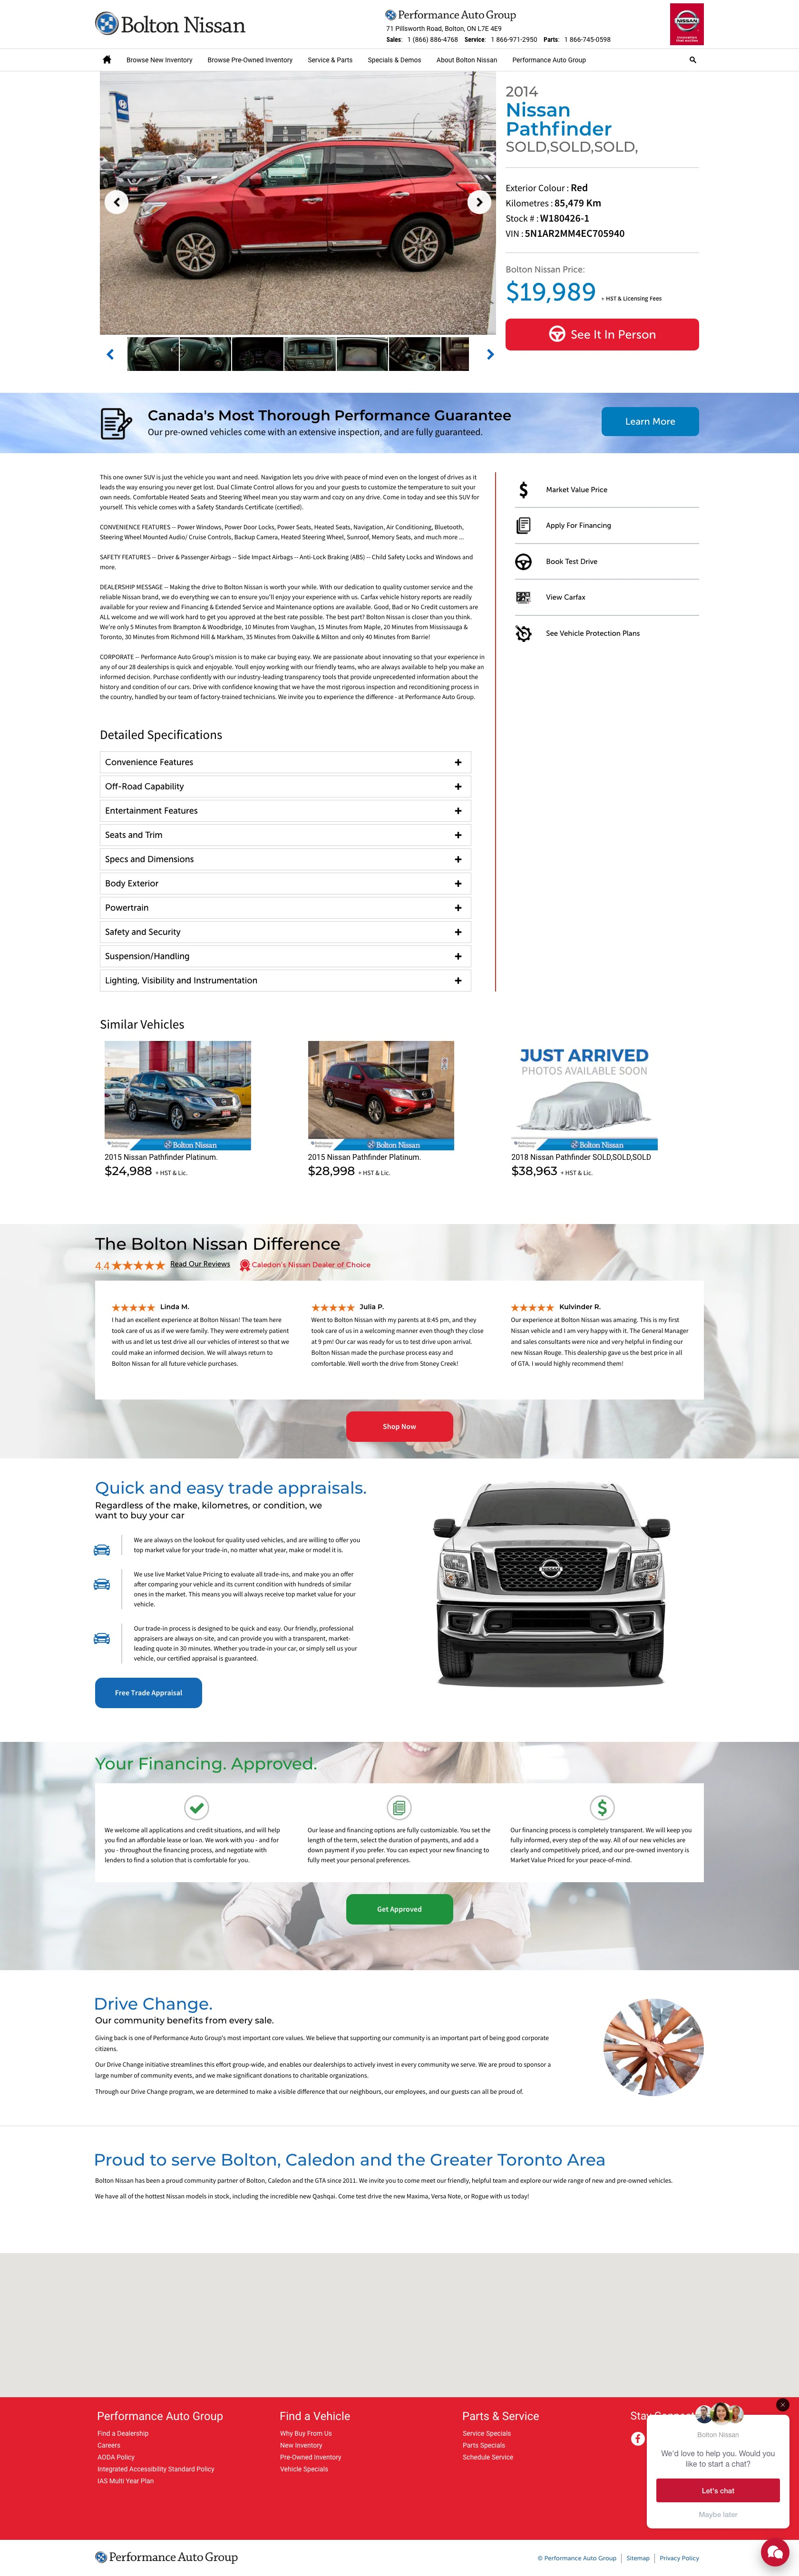car: (487, 348, 495, 361)
